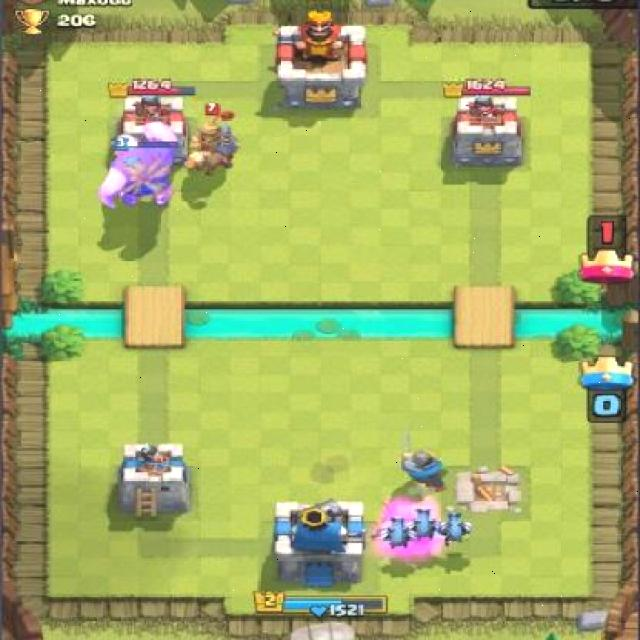Enemy-Prince: (185, 100, 240, 178)
Player-Giant: (97, 137, 181, 209)
Player-Knight: (396, 430, 449, 495)
Player-Minion: (375, 515, 420, 550), (436, 511, 473, 547), (408, 507, 442, 541)
